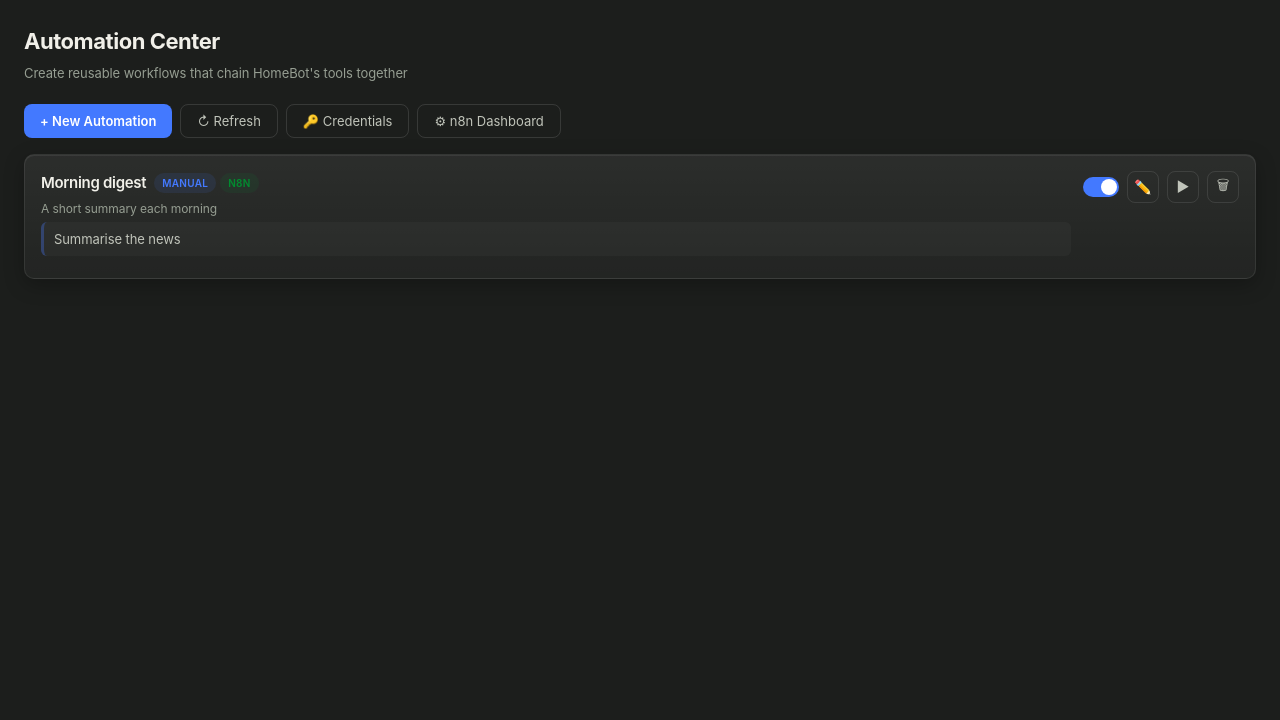
Test case: the two fields that were missing › the description field exists and is prefilled from the saved value
The image size is (1280, 720).
Expected: the heading "Morning digest" is shown, [41,171,146,195]
Click the button named "Edit Morning digest" at (1143, 187), box [1127,171,1159,203]
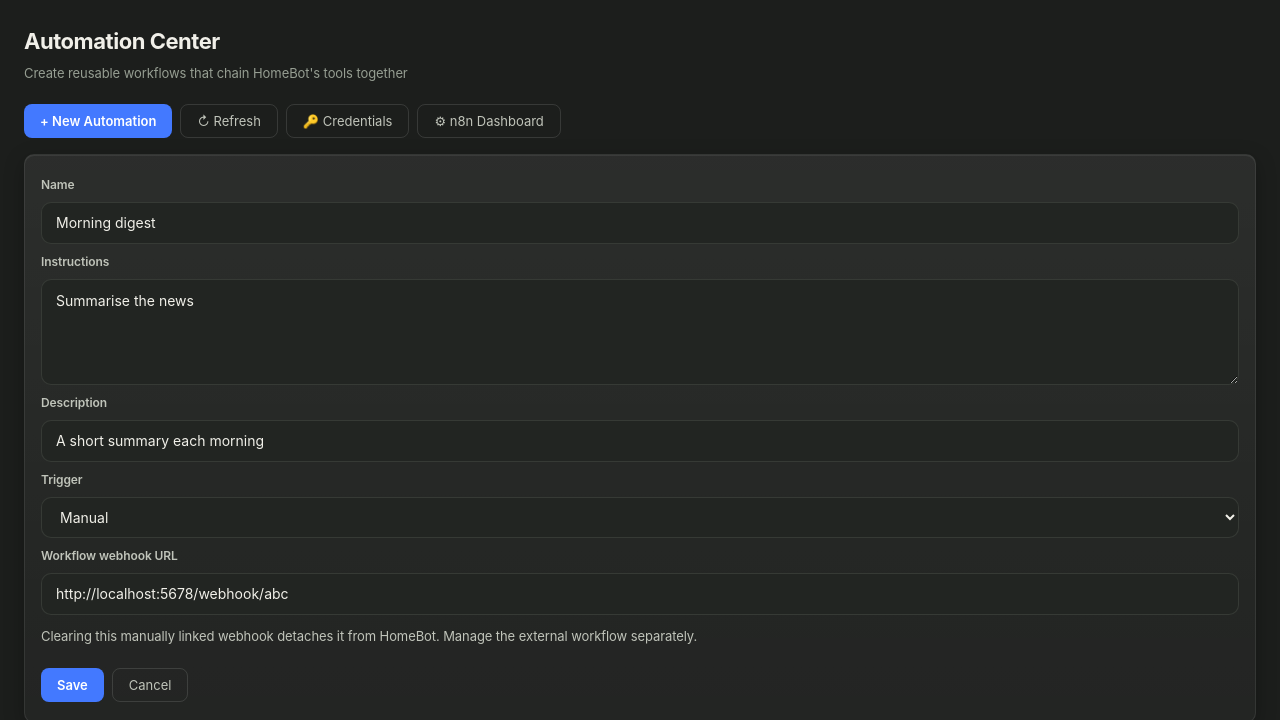
Result: the field with test id "edit-description" holds "A short summary each morning" at [41,420,1239,462]
